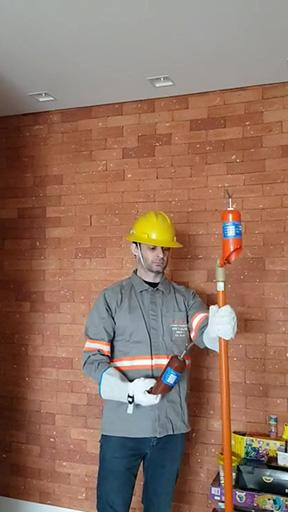Detector_Tensao_Contato: (149, 340, 198, 400), (219, 188, 244, 267)
Vara_Manobra: (212, 260, 235, 512)
